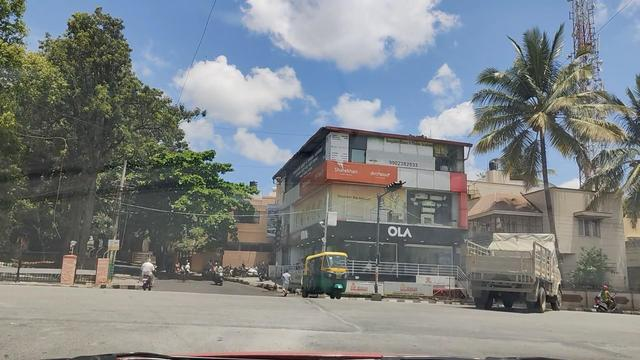HMV: (464, 230, 553, 304)
LMV: (304, 252, 345, 293)
RoadDamages: (309, 300, 362, 333)
